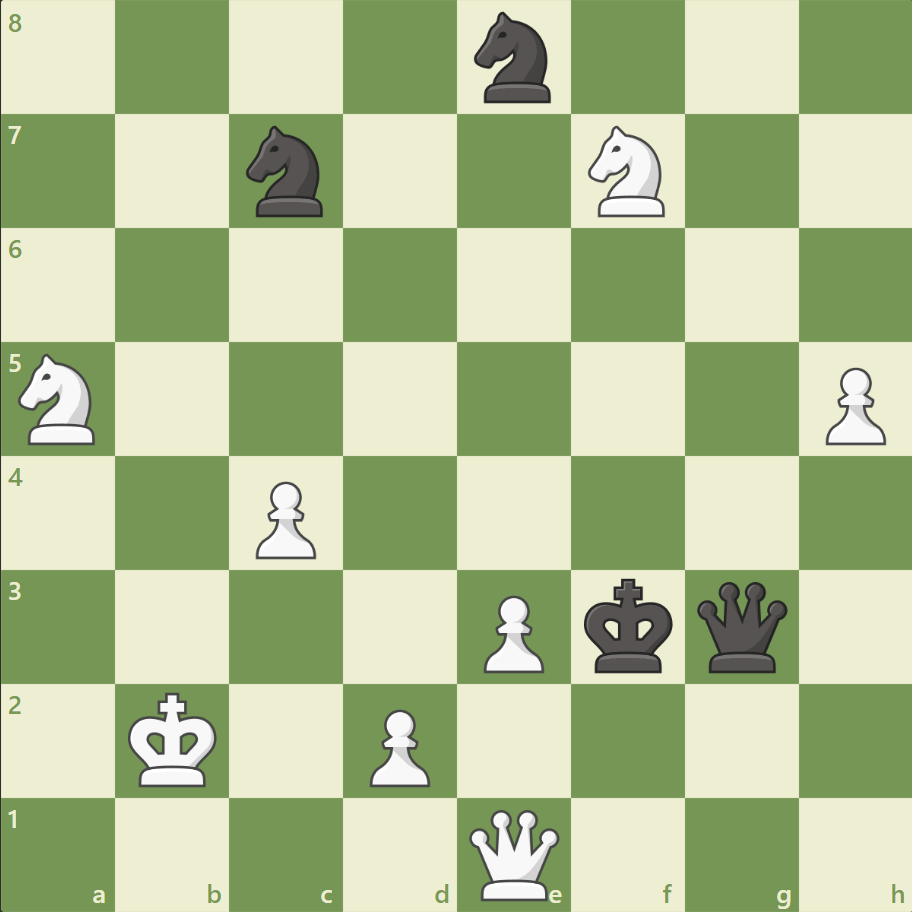K: (124, 685, 224, 793)
N: (579, 121, 676, 223), (11, 348, 108, 450)
P: (247, 473, 322, 564), (474, 586, 549, 677), (815, 359, 889, 450), (361, 700, 435, 791)
Q: (464, 804, 563, 903)
k: (579, 571, 679, 679)
n: (465, 7, 562, 110), (238, 121, 335, 223)
q: (691, 576, 790, 676)
